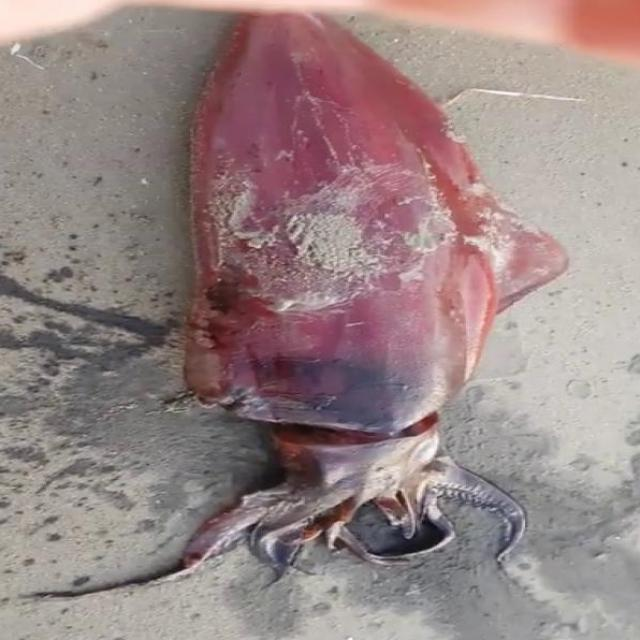SQUID: (165, 0, 552, 640)
